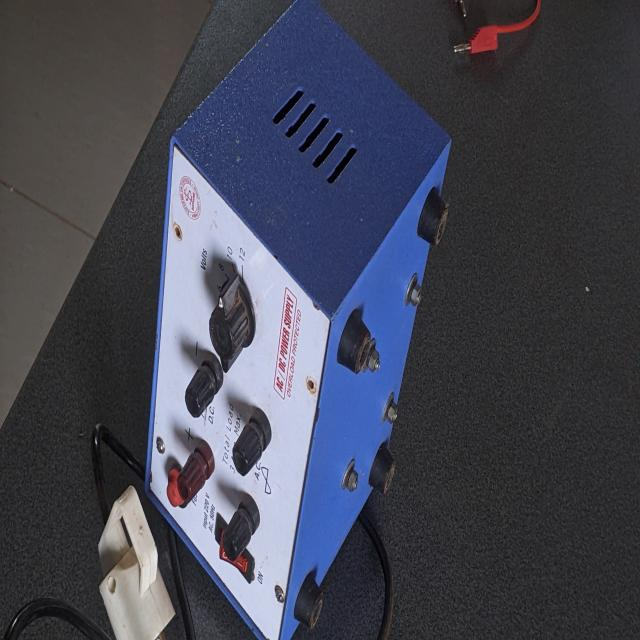Analog DC Power Supply: (136, 103, 422, 629)
